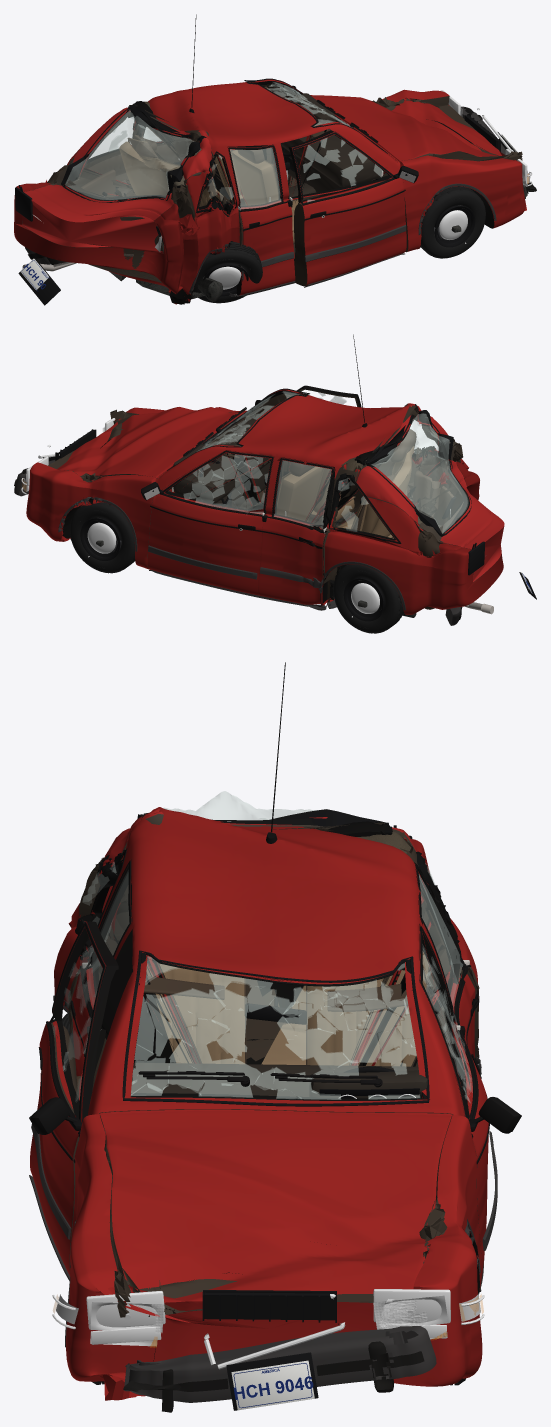
Rendered from hatchback85_rear_corner_R_d2.glb.
The picture shows the model from 3 angles, top to bottom: view 1: azimuth 30°, elevation 25°; view 2: azimuth 150°, elevation 25°; view 3: azimuth 270°, elevation 25°; orthographic projection. The views are drawn at different scales.
Visible parts, largest first — view 1: Body, Interior, Hatch, Door_FR, Glass_Hatch, Hood, Door_RR, Wheel_FR_mesh, Ends, Glass_RR, Wheel_RR_mesh, Trim_FR (+6 smaller); view 2: Body, Interior, Door_FL, Hood, Glass_Hatch, Hatch, Door_RL, Wheel_FL_mesh, Wheel_RL_mesh, Glass_RL, Glass_FL, Trim_FL (+6 smaller); view 3: Body, Hood, Glass, Interior, Ends, Bumper_F, Door_FR, Trim_FR, Door_FL, Trim, Trim_FL, Glass_Hatch (+10 smaller).
Boxes of the visible parts, bbox=[...] form: Body: bbox=[14, 79, 526, 304]; Interior: bbox=[81, 86, 383, 257]; Hatch: bbox=[22, 103, 212, 253]; Door_FR: bbox=[288, 130, 406, 286]; Glass_Hatch: bbox=[61, 105, 206, 202]; Hood: bbox=[312, 96, 505, 162]; Door_RR: bbox=[227, 144, 295, 295]; Wheel_FR_mesh: bbox=[420, 186, 485, 258]; Ends: bbox=[15, 90, 532, 305]; Glass_RR: bbox=[230, 148, 283, 208]; Wheel_RR_mesh: bbox=[193, 242, 262, 303]; Trim_FR: bbox=[292, 132, 418, 287]; Body: bbox=[26, 389, 503, 614]; Interior: bbox=[173, 397, 453, 538]; Door_FL: bbox=[147, 450, 274, 595]; Hood: bbox=[57, 407, 243, 478]; Glass_Hatch: bbox=[365, 404, 471, 536]; Hatch: bbox=[356, 403, 504, 581]; Door_RL: bbox=[258, 457, 334, 605]; Wheel_FL_mesh: bbox=[70, 502, 135, 573]; Wheel_RL_mesh: bbox=[333, 564, 403, 633]; Glass_RL: bbox=[271, 460, 333, 533]; Glass_FL: bbox=[165, 451, 274, 515]; Trim_FL: bbox=[141, 450, 273, 597]; Body: bbox=[54, 807, 482, 1400]; Hood: bbox=[99, 1109, 452, 1310]; Glass: bbox=[75, 851, 459, 1106]; Interior: bbox=[131, 951, 429, 1098]; Ends: bbox=[52, 825, 484, 1410]; Bumper_F: bbox=[123, 1326, 436, 1412]; Door_FR: bbox=[30, 921, 118, 1276]; Trim_FR: bbox=[29, 922, 105, 1280]; Door_FL: bbox=[419, 924, 488, 1277]; Trim: bbox=[53, 662, 480, 1347]; Trim_FL: bbox=[420, 925, 521, 1292]; Glass_Hatch: bbox=[137, 791, 388, 826].
Size of the model in its own units: 4.4 by 2.21 by 1.92.
33 materials, 5 textured.
